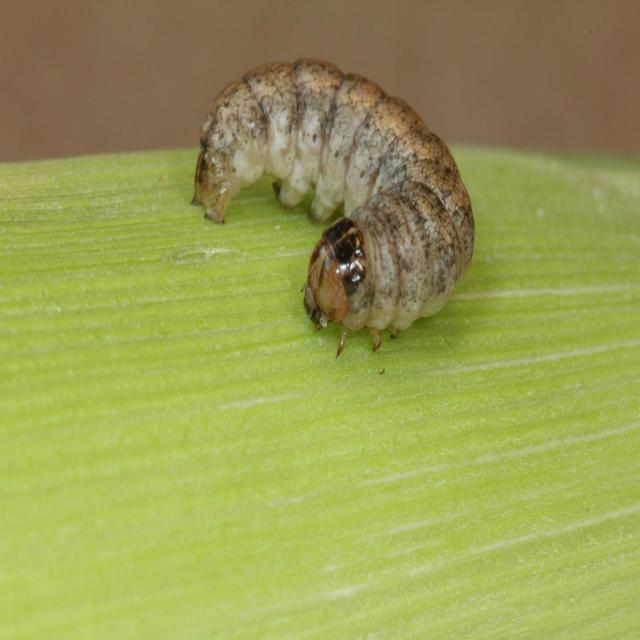Cutworm: (191, 59, 476, 347)
